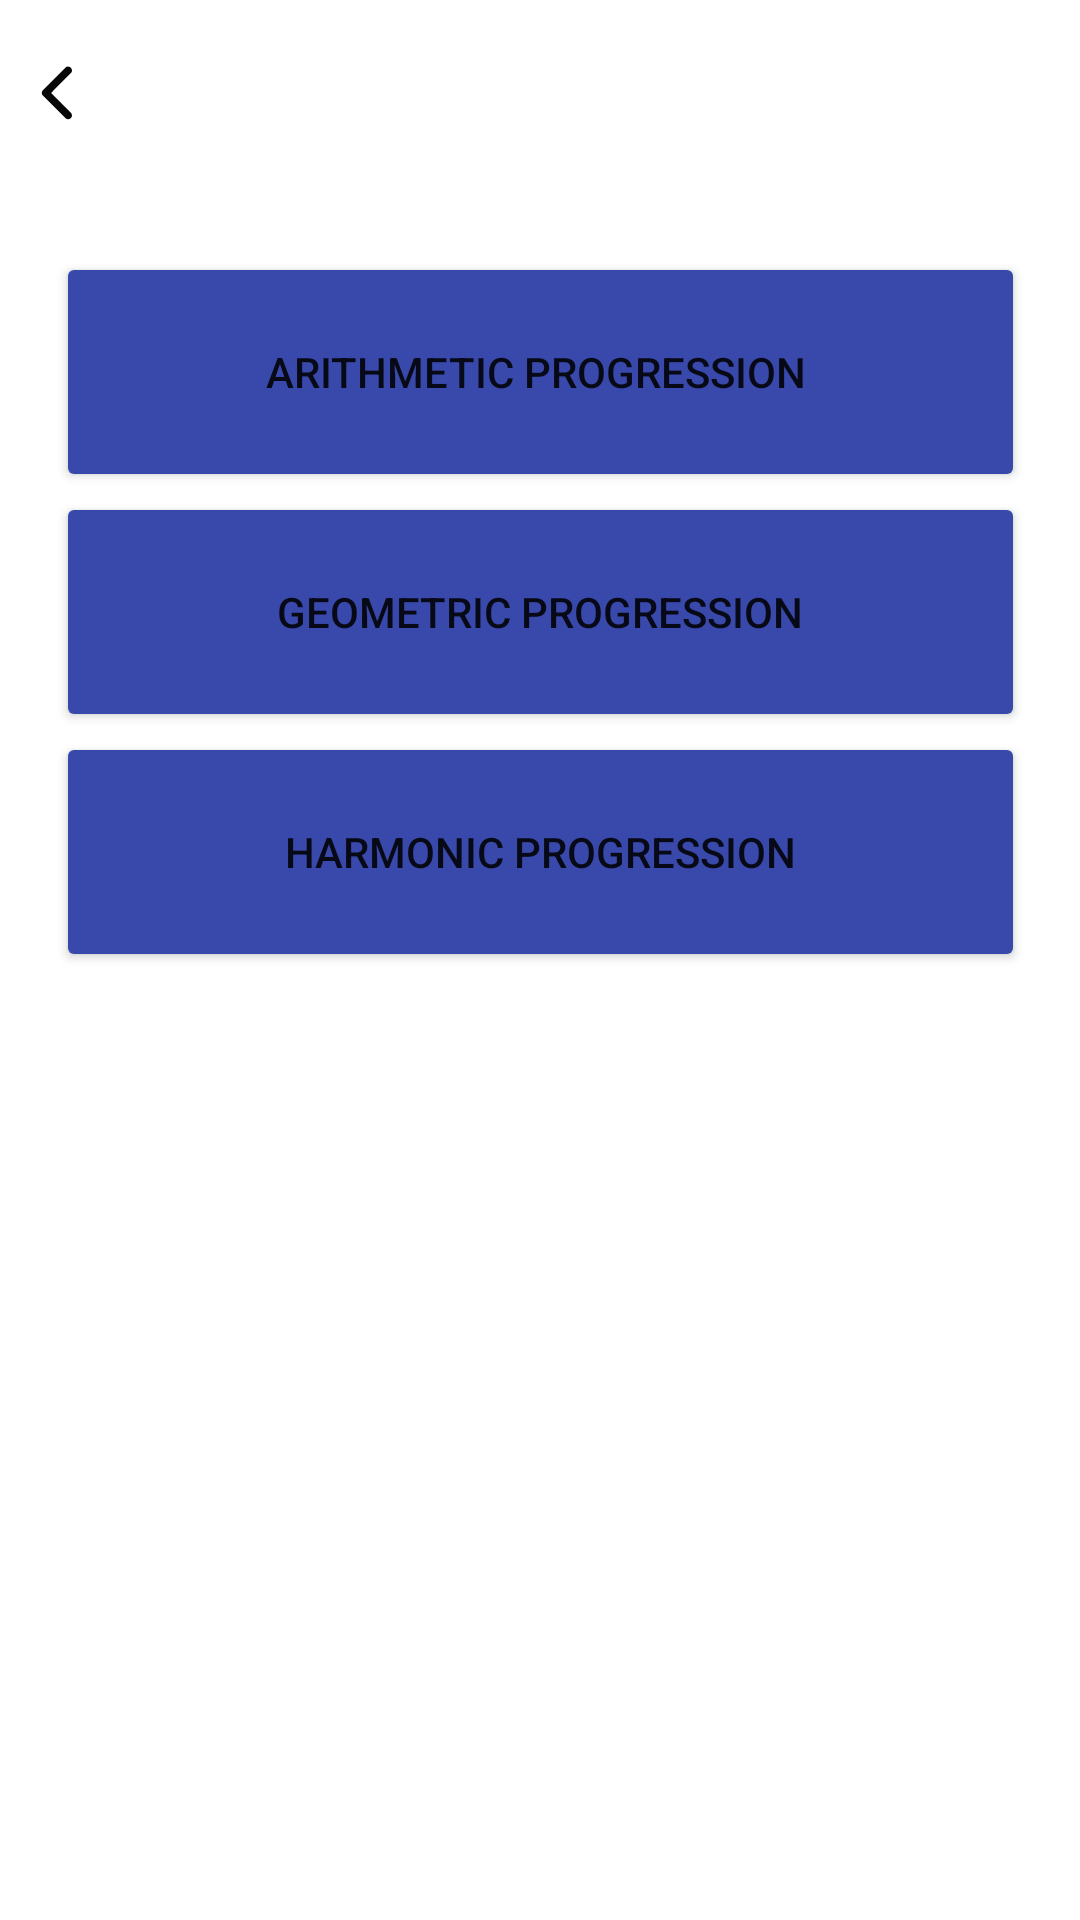

Where icons sit on this 1080x1920 app screen, as {"left": x1, "top": y1, "right": x2, "bottom": y2}:
back: {"left": 41, "top": 66, "right": 72, "bottom": 120}
